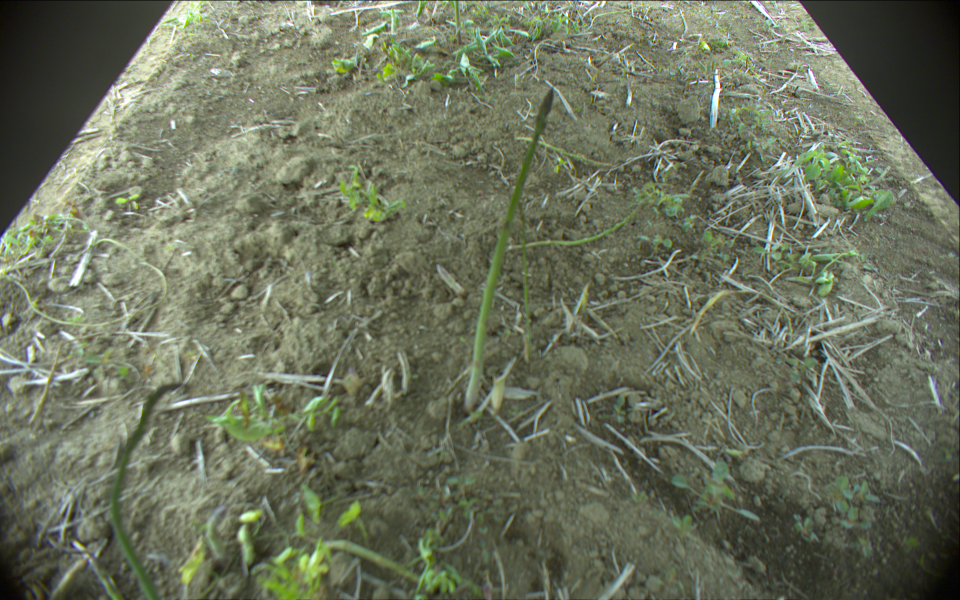aspa: (461, 86, 555, 410), (110, 380, 184, 600), (315, 536, 447, 600), (508, 204, 641, 253), (518, 134, 621, 166), (516, 194, 532, 363), (47, 557, 93, 600), (202, 507, 233, 564), (235, 522, 260, 568), (449, 1, 465, 45)
